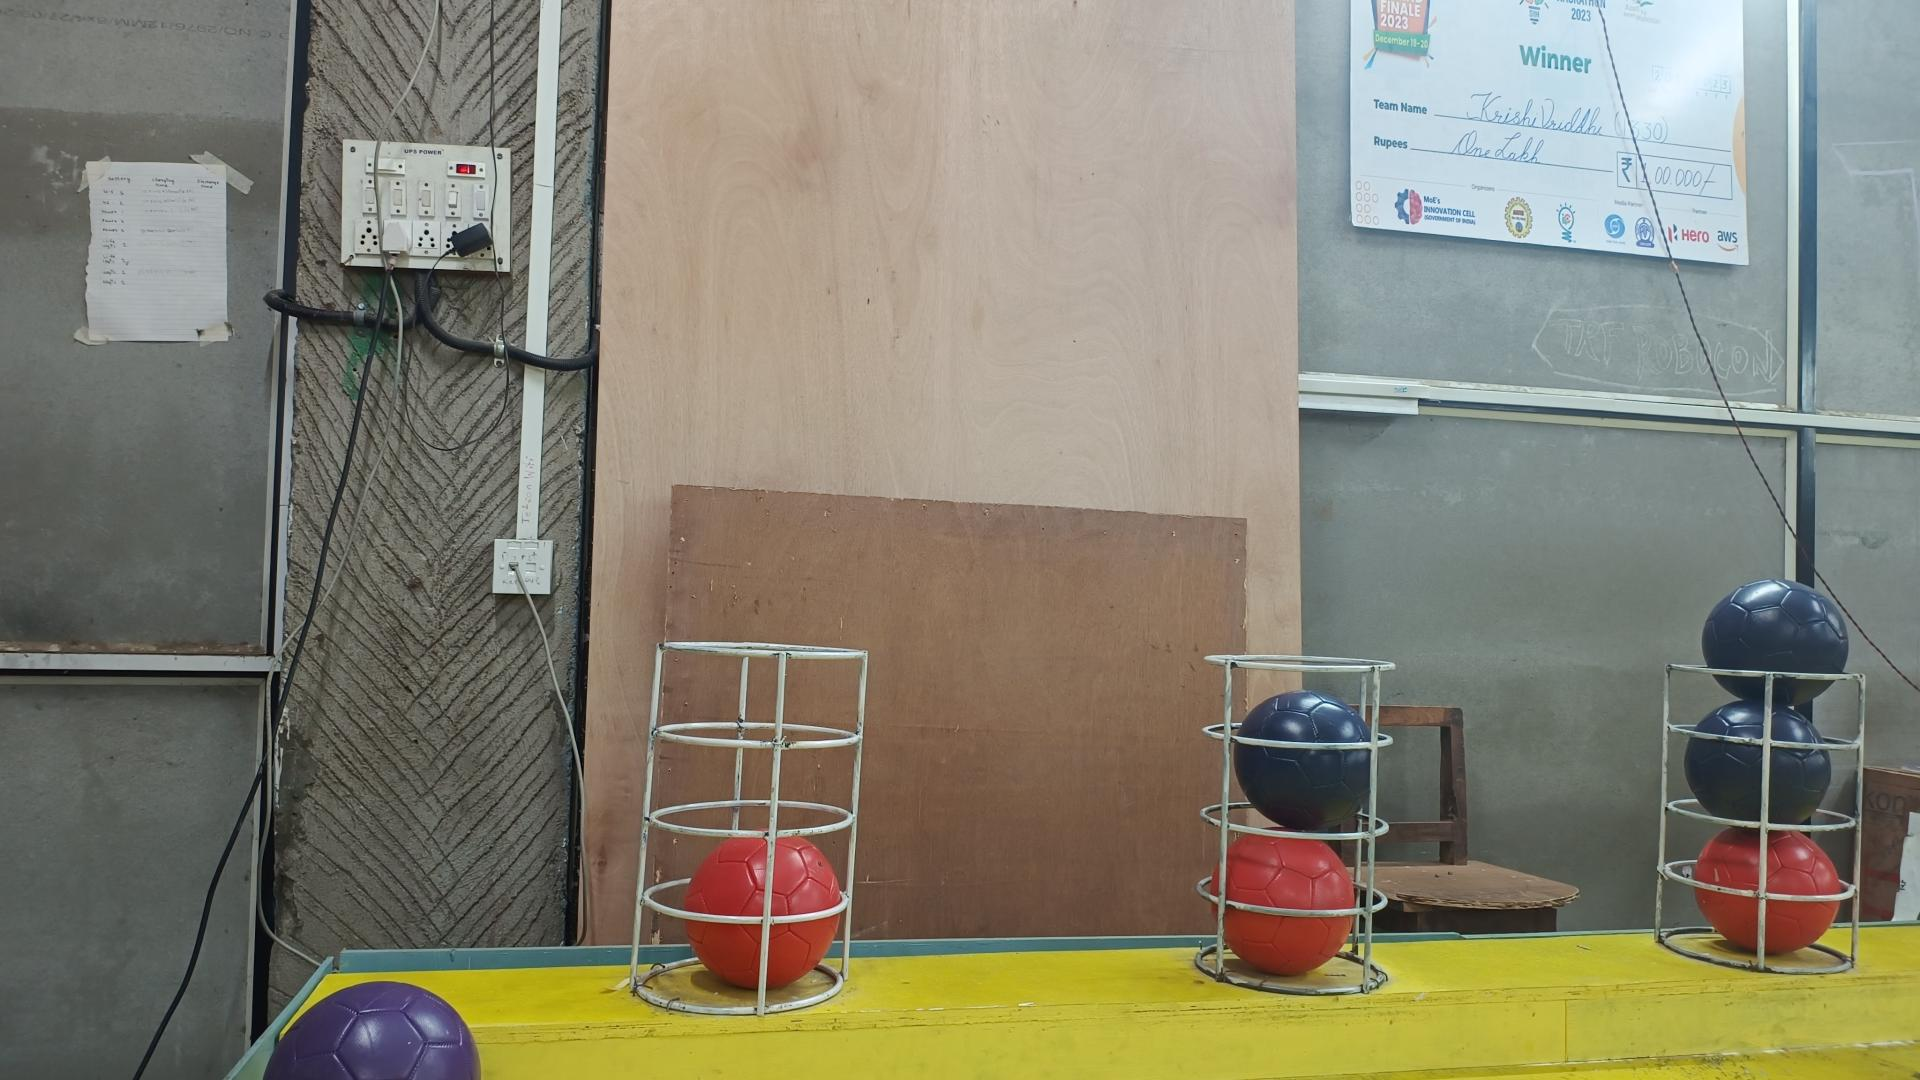dhoka: (1234, 690, 1373, 832), (1684, 698, 1834, 825), (1702, 578, 1849, 705)
laale: (683, 836, 844, 990), (1208, 832, 1357, 975), (1695, 825, 1845, 956)
